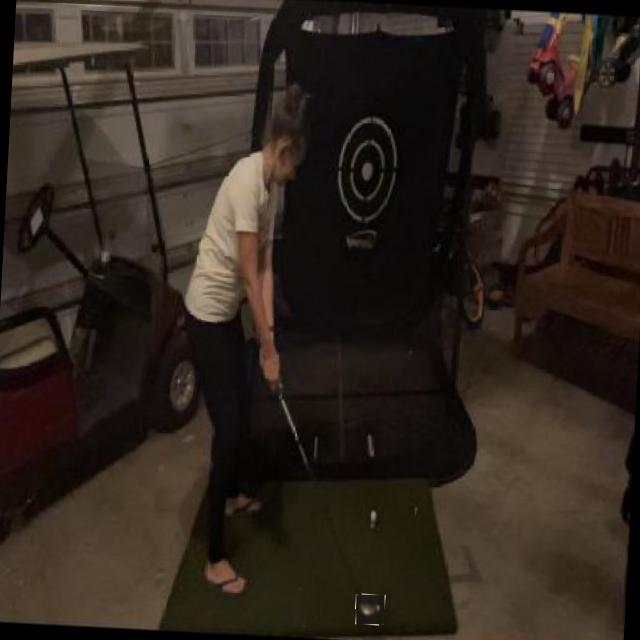club head: (355, 594, 386, 626)
